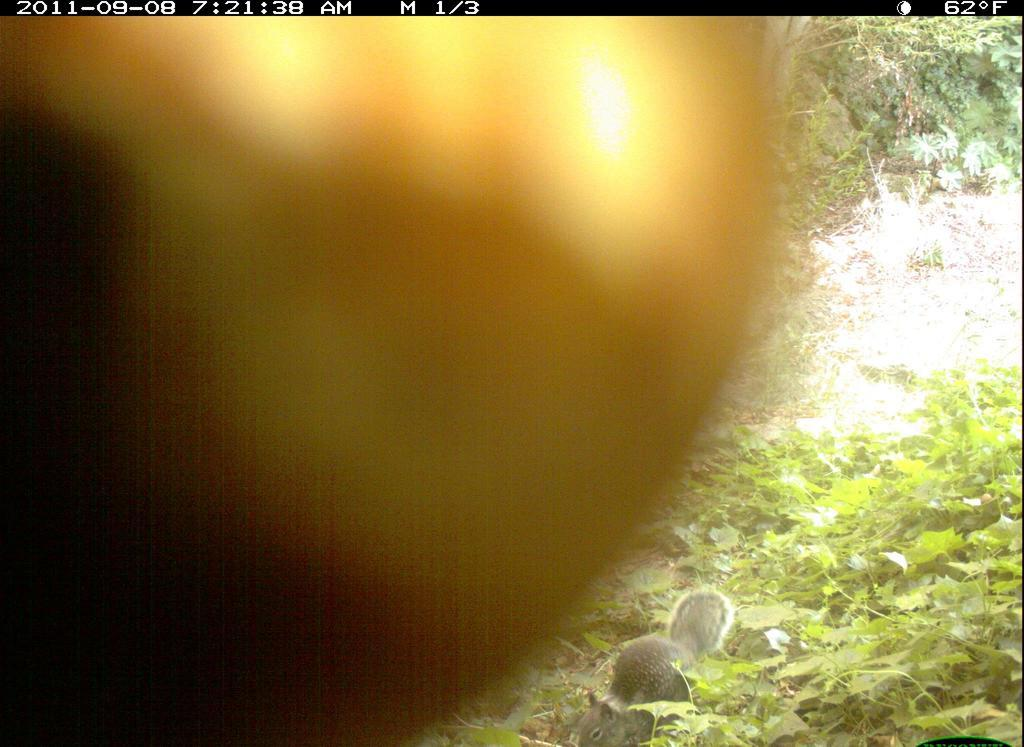squirrel: (565, 579, 757, 745)
